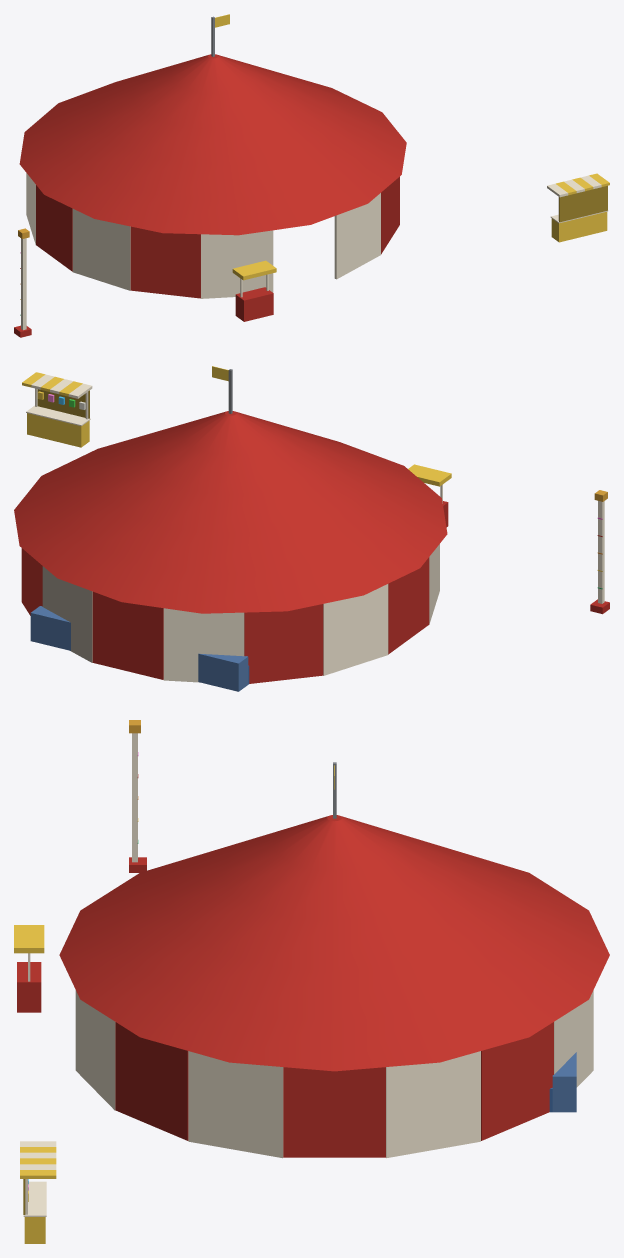
Rendered from circus.glb.
3 views of the same model, one above another, from view 1: azimuth 30°, elevation 25°; view 2: azimuth 150°, elevation 25°; view 3: azimuth 270°, elevation 25° (orthographic). The views are drawn at different scales.
Parts seen in each view (by area): view 1: Solid1, Box6, Box5, Box7, Box4, Box8, Box44, Box34, Box22, Box3, Box23, Box27 (+1 smaller); view 2: Solid1, Box10, Box12, Box9, Box11, Box21, Box8, Box13, Box34, Box14, Box44, Box27 (+3 smaller); view 3: Solid1, Box1, Box2, Box15, Box3, Box14, Box4, Box13, Box22, Box21, Box23, Box27 (+1 smaller).
Part boxes in pixels (left/top/right/bottom): Solid1: left=19, top=54, right=406, bottom=235; Box6: left=130, top=226, right=200, bottom=298; Box5: left=201, top=230, right=273, bottom=298; Box7: left=72, top=209, right=130, bottom=290; Box4: left=334, top=193, right=380, bottom=279; Box8: left=36, top=185, right=72, bottom=271; Box44: left=559, top=185, right=607, bottom=222; Box34: left=551, top=212, right=607, bottom=242; Box22: left=235, top=287, right=273, bottom=321; Box3: left=381, top=176, right=399, bottom=254; Box23: left=232, top=260, right=276, bottom=280; Box27: left=21, top=238, right=26, bottom=330; Solid1: left=14, top=411, right=447, bottom=613; Box10: left=244, top=604, right=323, bottom=683; Box12: left=92, top=591, right=163, bottom=679; Box9: left=323, top=584, right=388, bottom=675; Box11: left=163, top=608, right=244, bottom=682; Box21: left=30, top=606, right=248, bottom=691; Box8: left=388, top=557, right=429, bottom=654; Box13: left=42, top=566, right=92, bottom=662; Box34: left=27, top=413, right=89, bottom=447; Box14: left=21, top=548, right=42, bottom=615; Box44: left=37, top=389, right=89, bottom=418; Box27: left=598, top=501, right=604, bottom=603; Solid1: left=59, top=815, right=609, bottom=1071; Box1: left=283, top=1067, right=385, bottom=1157; Box2: left=188, top=1051, right=283, bottom=1158; Box15: left=386, top=1051, right=480, bottom=1158; Box3: left=115, top=1022, right=188, bottom=1140; Box14: left=481, top=1022, right=553, bottom=1140; Box4: left=75, top=990, right=115, bottom=1110; Box13: left=554, top=990, right=593, bottom=1087; Box22: left=17, top=962, right=41, bottom=1012; Box21: left=552, top=1052, right=576, bottom=1112; Box23: left=14, top=925, right=44, bottom=953; Box27: left=132, top=733, right=137, bottom=862.
Size of the model in its own units: 29.65 by 10.42 by 19.7.
